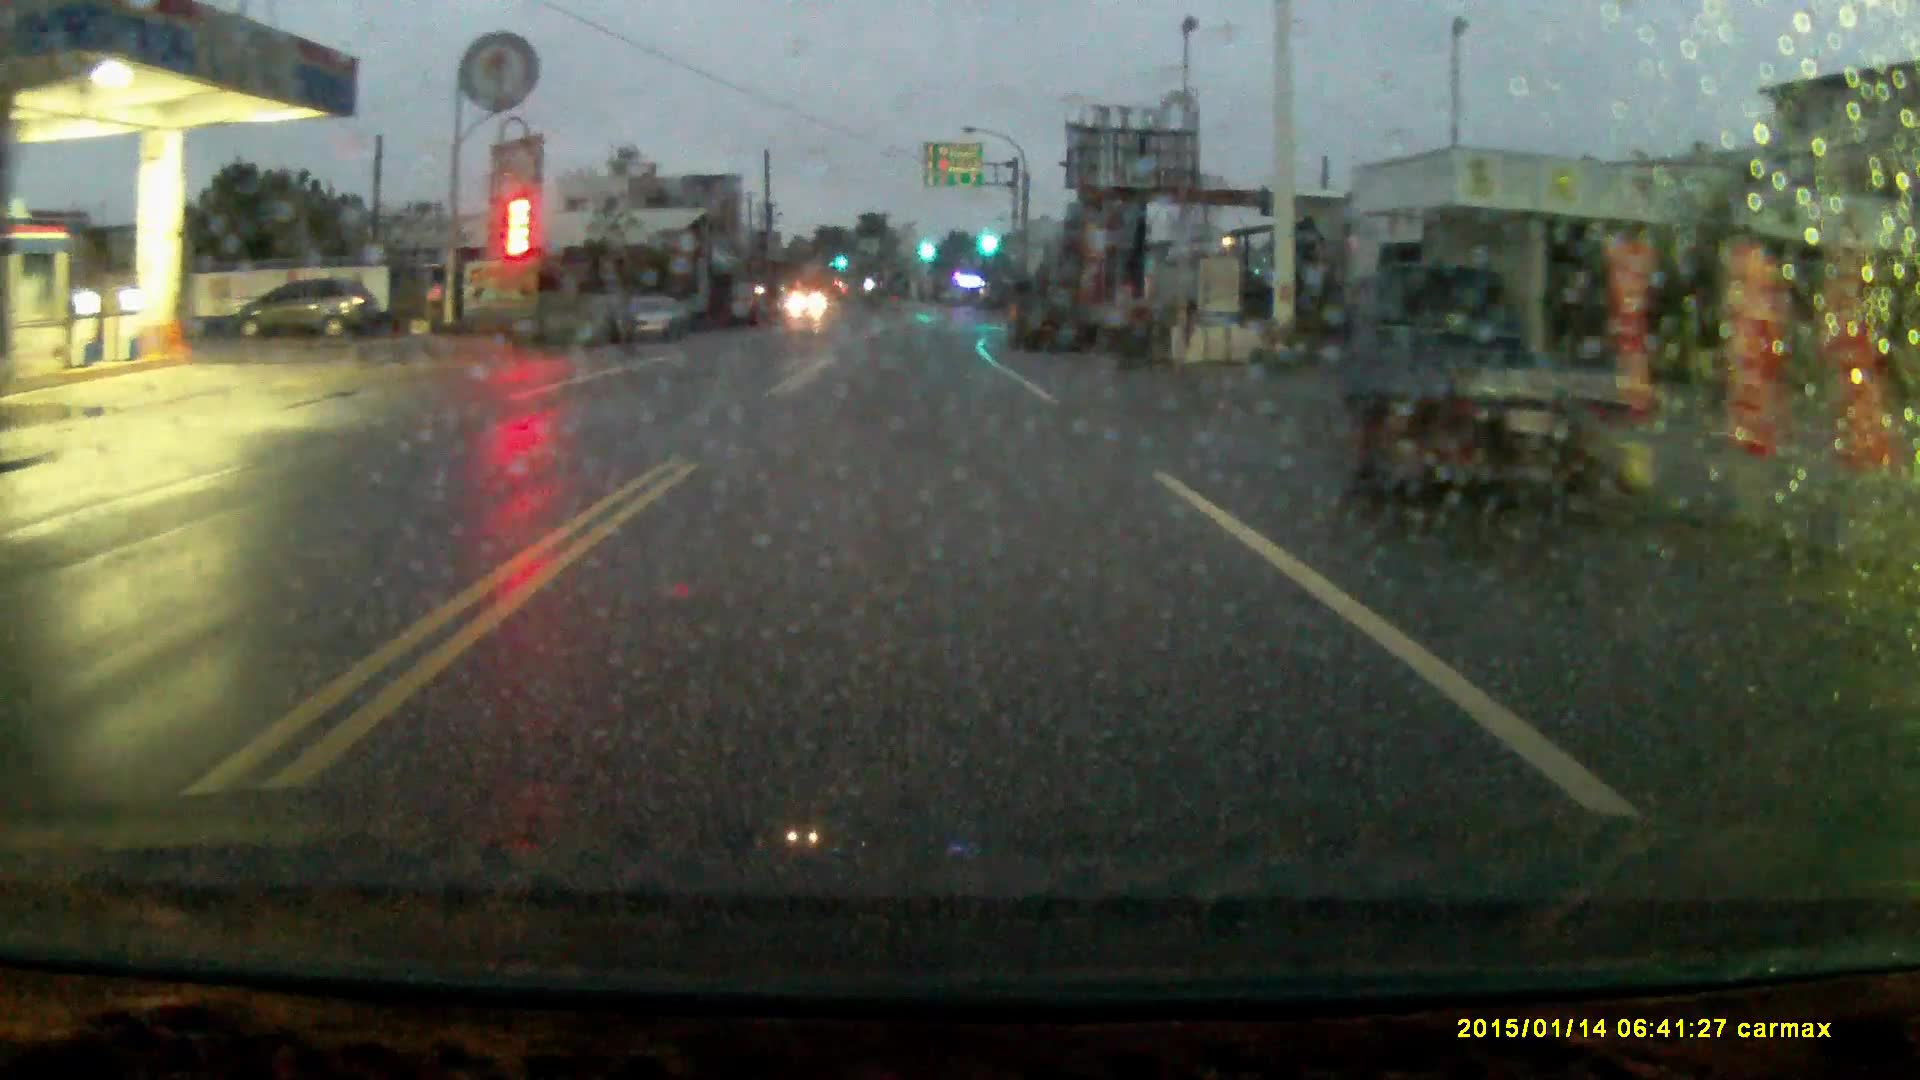rider: (618, 268, 662, 358)
vehicle: (1388, 267, 1613, 508), (232, 284, 379, 341), (1008, 271, 1099, 357), (616, 301, 699, 348)
